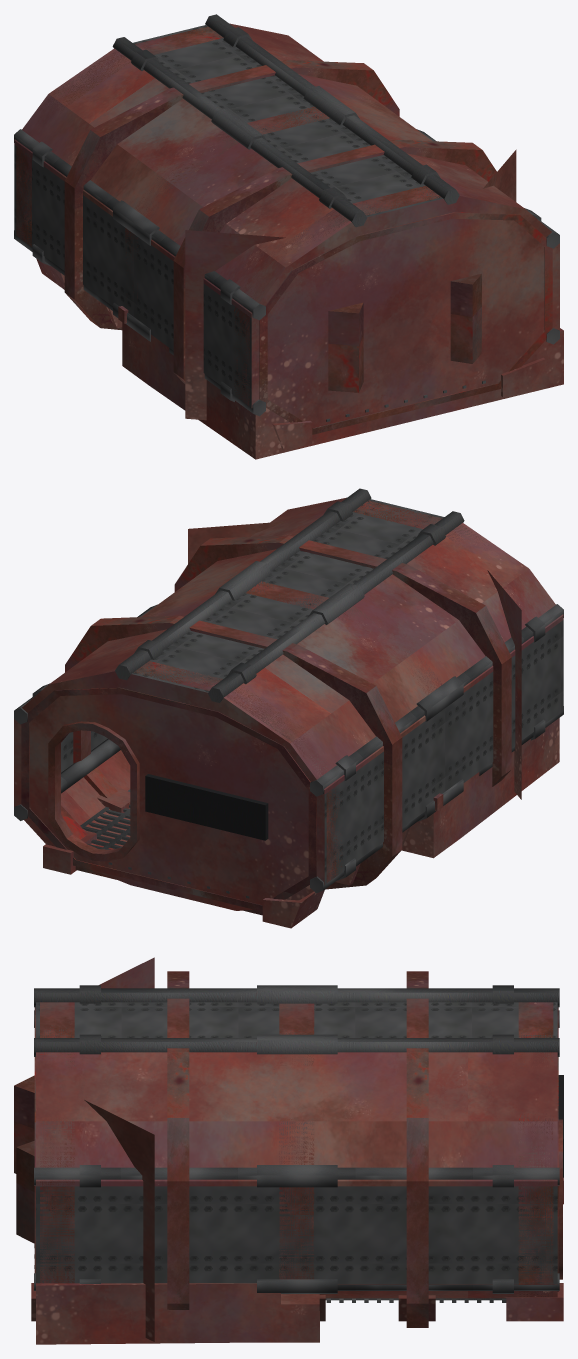
Rendered from Control_Room.obj.
3 renders of one model, top to bottom at view 1: azimuth 30°, elevation 25°; view 2: azimuth 150°, elevation 25°; view 3: azimuth 270°, elevation 25°, orthographic. The views are drawn at different scales.
Visible parts, largest first — view 1: Cube.001; view 2: Cube.001; view 3: Cube.001.
Boxes of the visible parts, box(x1,y1,x2,y2) form: Cube.001: box(14, 14, 563, 459); Cube.001: box(14, 488, 563, 928); Cube.001: box(14, 957, 563, 1344).
Bounding box in the file's own units: 6.44 × 4.43 × 8.43.
8 materials, 8 textured.
